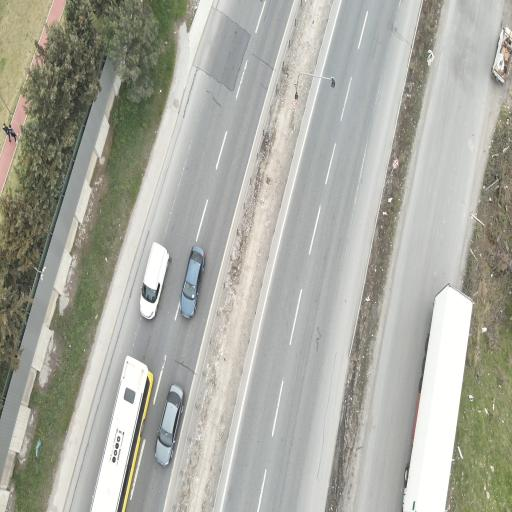bus: (91, 357, 153, 511)
car: (155, 385, 184, 466), (140, 243, 169, 319), (180, 247, 205, 318)
person: (9, 125, 18, 144), (3, 123, 11, 143)
truck: (403, 284, 473, 511), (492, 28, 511, 83)
